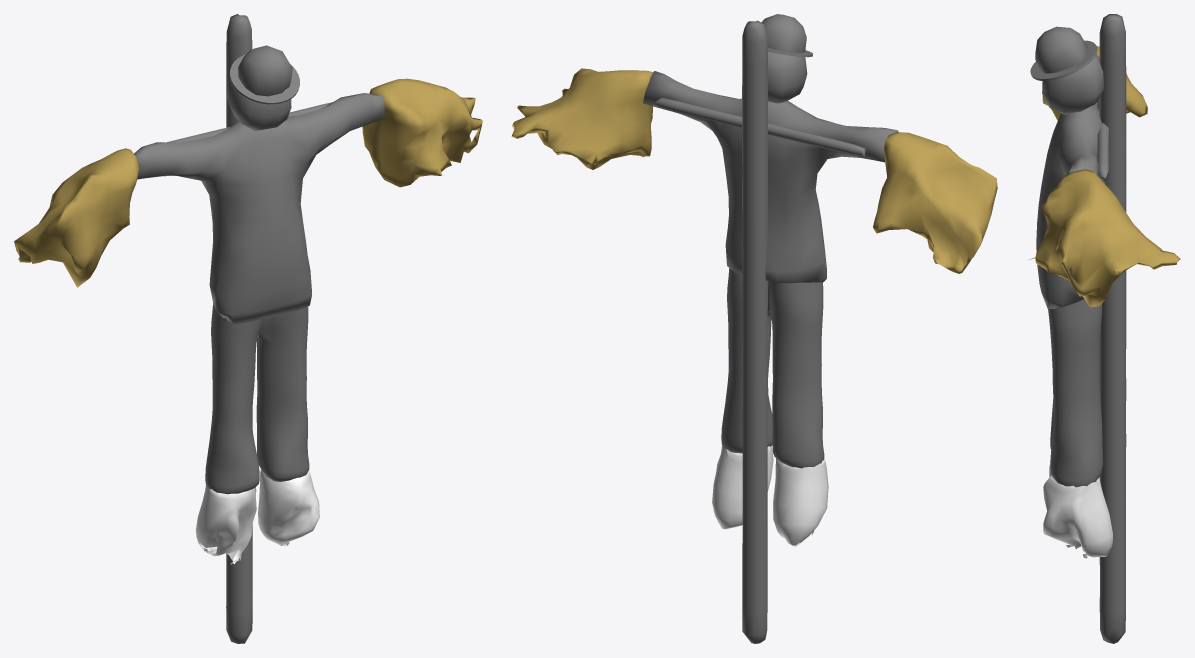
File: Straw.fbx
3 renders of one model, left to right at view 1: azimuth 30°, elevation 25°; view 2: azimuth 150°, elevation 25°; view 3: azimuth 270°, elevation 25°, orthographic.
Parts seen in each view (by area): view 1: Skin_Mannequin_ryan_female_01, Fibers182, PM3D_Cylinder3D1, PM3D_Sphere3D1, PM3D_Sphere3D2; view 2: Skin_Mannequin_ryan_female_01, Fibers182, PM3D_Cylinder3D1, PM3D_Sphere3D2, PM3D_Sphere3D1; view 3: Fibers182, Skin_Mannequin_ryan_female_01, PM3D_Cylinder3D1, PM3D_Sphere3D1, PM3D_Sphere3D2.
Part boxes in pixels (x1=…): Skin_Mannequin_ryan_female_01: x1=134, y1=93, x2=384, y2=494; Fibers182: x1=14, y1=78, x2=482, y2=564; PM3D_Cylinder3D1: x1=166, y1=14, x2=332, y2=643; PM3D_Sphere3D1: x1=229, y1=45, x2=299, y2=104; PM3D_Sphere3D2: x1=226, y1=78, x2=291, y2=130; Skin_Mannequin_ryan_female_01: x1=643, y1=71, x2=898, y2=468; Fibers182: x1=511, y1=68, x2=997, y2=546; PM3D_Cylinder3D1: x1=653, y1=20, x2=865, y2=643; PM3D_Sphere3D2: x1=768, y1=51, x2=807, y2=103; PM3D_Sphere3D1: x1=761, y1=14, x2=812, y2=57; Fibers182: x1=1029, y1=46, x2=1180, y2=558; Skin_Mannequin_ryan_female_01: x1=1036, y1=102, x2=1105, y2=487; PM3D_Cylinder3D1: x1=1097, y1=14, x2=1126, y2=643; PM3D_Sphere3D1: x1=1030, y1=26, x2=1097, y2=80; PM3D_Sphere3D2: x1=1042, y1=54, x2=1104, y2=114.
Bounding box in the file's own units: 3.45 × 4.43 × 0.9916.
